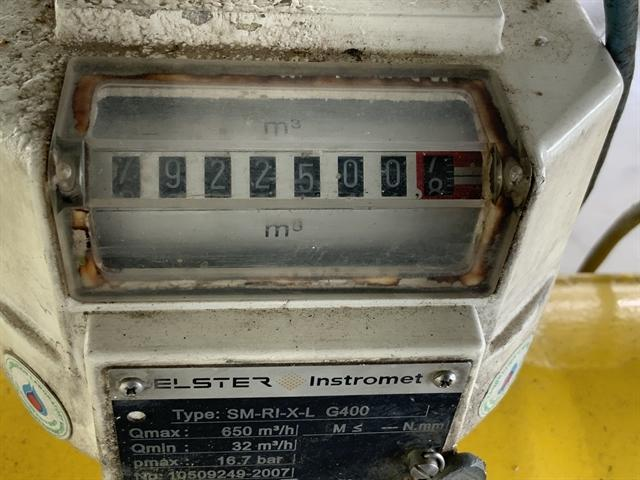analog_dial: (91, 150, 483, 199)
